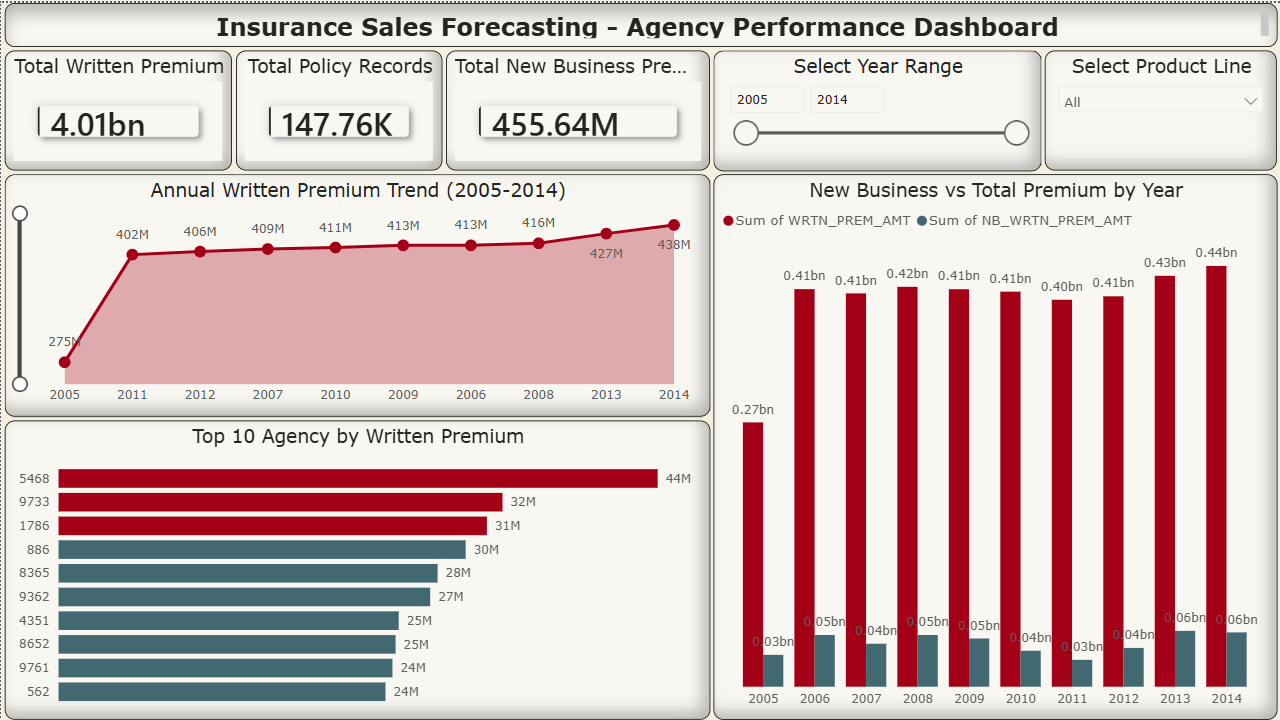

The dashboard page shown, as its layout file describes it:
{"tool":"powerbi","page":{"name":"Sales Overview Dashboard","canvas":[1280,720],"ordinal":0},"visuals":[{"type":"cardVisual","title":"Total Written Premium","fields":{"Data":["Sum(insurance_cleaned.WRTN_PREM_AMT)"]},"box":[3.7,47.7,227.4,119.8],"z":0},{"type":"cardVisual","title":"Total Policy Records","fields":{"Data":["CountNonNull(insurance_cleaned.AGENCY_ID)"]},"box":[234.8,47.7,206.7,119.8],"z":1000},{"type":"cardVisual","title":"Total New Business Premium","fields":{"Data":["Sum(insurance_cleaned.NB_WRTN_PREM_AMT)"]},"box":[445.1,47.7,264.1,119.8],"z":2000},{"type":"lineChart","title":"Annual Written Premium Trend (2005-2014)","fields":{"Category":["insurance_cleaned.STAT_PROFILE_DATE_YEAR"],"Y":["Sum(insurance_cleaned.WRTN_PREM_AMT)"]},"box":[3.7,171.2,705.6,242.1],"z":3000},{"type":"barChart","title":"Top 10 Agency by Written Premium","fields":{"Y":["Sum(insurance_cleaned.WRTN_PREM_AMT)"],"Category":["insurance_cleaned.AGENCY_ID"]},"box":[3.7,417,705.6,299.6],"z":4000},{"type":"textbox","box":[0,0,1280,44.3],"z":5000},{"type":"clusteredColumnChart","title":"New Business vs Total Premium by Year","fields":{"Category":["insurance_cleaned.STAT_PROFILE_DATE_YEAR Hierarchy.STAT_PROFILE_DATE_YEAR"],"Y":["Sum(insurance_cleaned.WRTN_PREM_AMT)","Sum(insurance_cleaned.NB_WRTN_PREM_AMT)"]},"box":[712.9,171.2,563.7,545.4],"z":6000},{"type":"slicer","title":"Select Year Range","fields":{"Values":["insurance_cleaned.STAT_PROFILE_DATE_YEAR"]},"box":[712.9,47.7,327.7,121.1],"z":7000},{"type":"slicer","title":"Select Product Line","fields":{"Values":["insurance_cleaned.PROD_LINE_LABEL"]},"box":[1044.3,47.7,232.3,119.8],"z":8000}]}

Visuals, with their boxes in screenshot pixels (x1, y1, x2, y2), scaled from the page's 1280x720 canvas onto the 1280x720 screenshot:
"Total Written Premium" cardVisual: [x1=4, y1=48, x2=231, y2=168]
"Total Policy Records" cardVisual: [x1=235, y1=48, x2=442, y2=168]
"Total New Business Premium" cardVisual: [x1=445, y1=48, x2=709, y2=168]
"Annual Written Premium Trend (2005-2014)" lineChart: [x1=4, y1=171, x2=709, y2=413]
"Top 10 Agency by Written Premium" barChart: [x1=4, y1=417, x2=709, y2=717]
textbox: [x1=0, y1=0, x2=1279, y2=44]
"New Business vs Total Premium by Year" clusteredColumnChart: [x1=713, y1=171, x2=1277, y2=717]
"Select Year Range" slicer: [x1=713, y1=48, x2=1041, y2=169]
"Select Product Line" slicer: [x1=1044, y1=48, x2=1277, y2=168]
